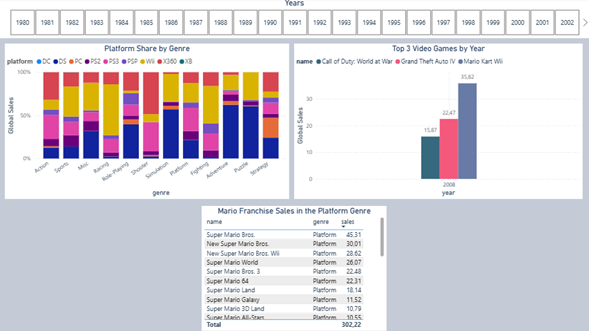

The page's visual inventory and layout, read from the dashboard file:
{"tool":"powerbi","page":{"name":"Additional Insights","canvas":[1280,720],"ordinal":5},"visuals":[{"type":"hundredPercentStackedColumnChart","title":"Platform Share by Genre","fields":{"Category":["video_game_sales vgsales.genre"],"Y":["Sum(video_game_sales vgsales.global_sales)"],"Series":["video_game_sales vgsales.platform"]},"box":[13.4,98.6,615.4,336.1],"z":0},{"type":"slicer","title":"Years","fields":{"Values":["video_game_sales vgsales.year"]},"box":[13.4,12,1250.3,74.7],"z":1000},{"type":"clusteredColumnChart","title":"Top 3 Video Games by Year","fields":{"Y":["Sum(video_game_sales vgsales.global_sales)"],"Series":["video_game_sales vgsales.name"],"Category":["video_game_sales vgsales.year"]},"box":[639.2,98.4,624.5,336.5],"z":2000},{"type":"tableEx","title":"Mario Franchise Sales in the Platform Genre","fields":{"Values":["2 video game sales.name","2 video game sales.genre","Sum(2 video game sales.Valor)"]},"box":[449.6,449.6,387.9,257.1],"z":3000}]}

Visuals, with their boxes in screenshot pixels (x1, y1, x2, y2), scaled from the page's 1280x720 canvas onto the 589x331 screenshot:
"Platform Share by Genre" hundredPercentStackedColumnChart: <bbox>6, 45, 289, 200</bbox>
"Years" slicer: <bbox>6, 6, 581, 40</bbox>
"Top 3 Video Games by Year" clusteredColumnChart: <bbox>294, 45, 581, 200</bbox>
"Mario Franchise Sales in the Platform Genre" tableEx: <bbox>207, 207, 385, 325</bbox>
